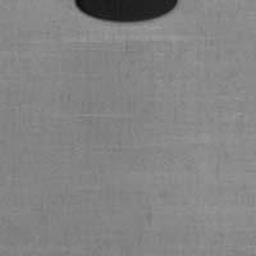Punching: (73, 0, 177, 26)
